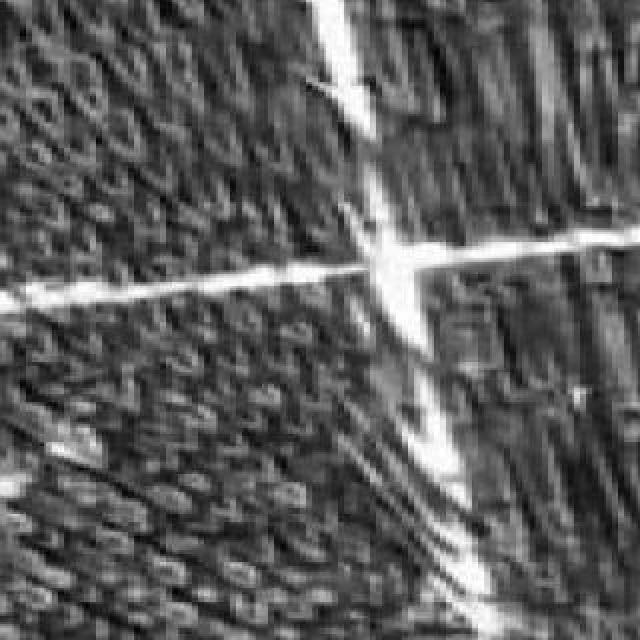Physical-damage: (117, 399, 305, 553), (88, 80, 245, 200), (249, 518, 386, 616), (500, 308, 580, 460), (199, 153, 299, 230), (465, 77, 549, 168)
